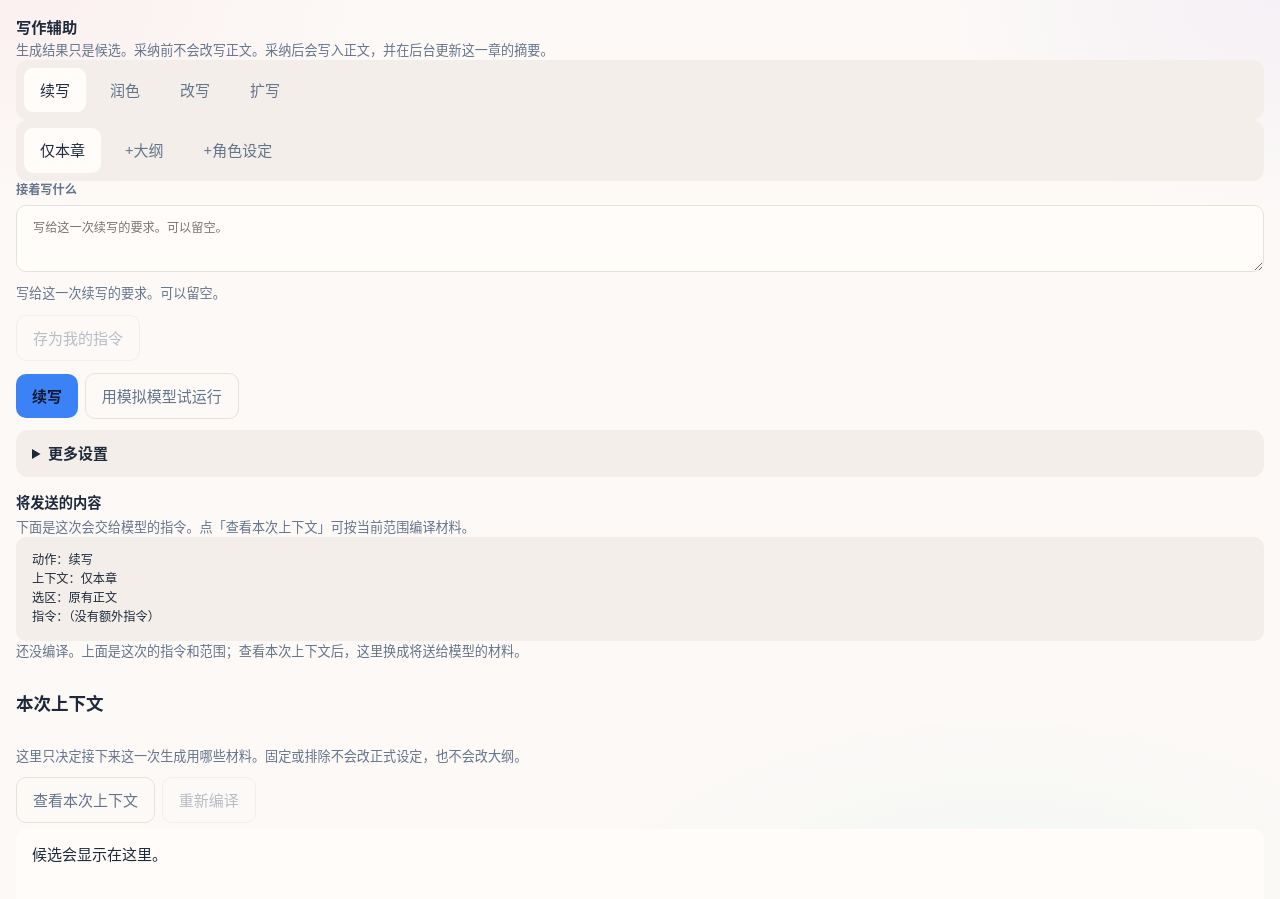
AiPanel › saves an instruction locally and previews the request
In the text box labelled "接着写什么": [640, 238] box x1=16 y1=205 x2=1264 y2=272, type "雨声再近一点"
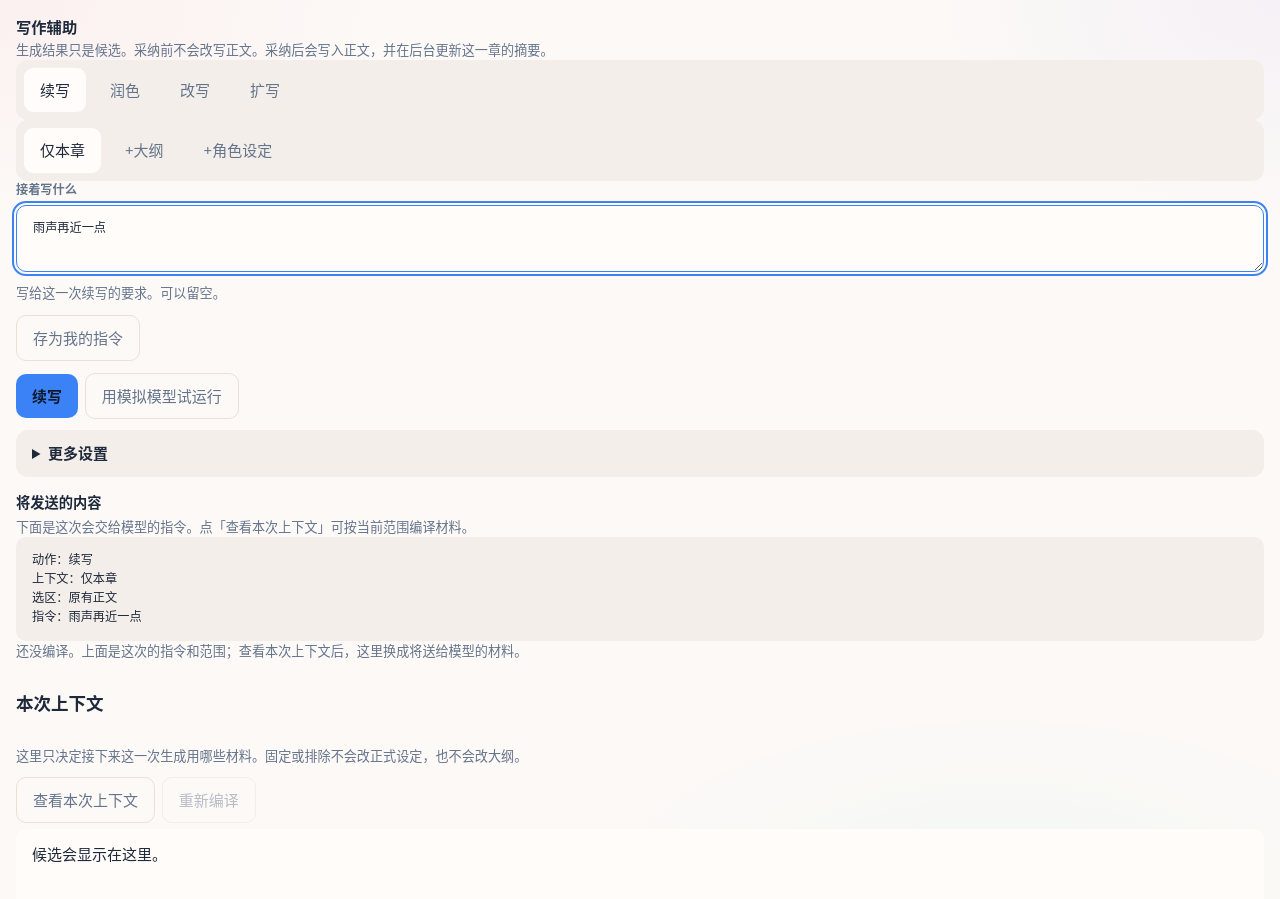
Expected: the element named "Prompt 预览" shows "动作：续写", x1=32 y1=551 x2=142 y2=625
Expected: the element named "Prompt 预览" shows "雨声再近一点", x1=32 y1=551 x2=142 y2=625
Click the button "存为我的指令": [78, 338] box x1=16 y1=315 x2=140 y2=361
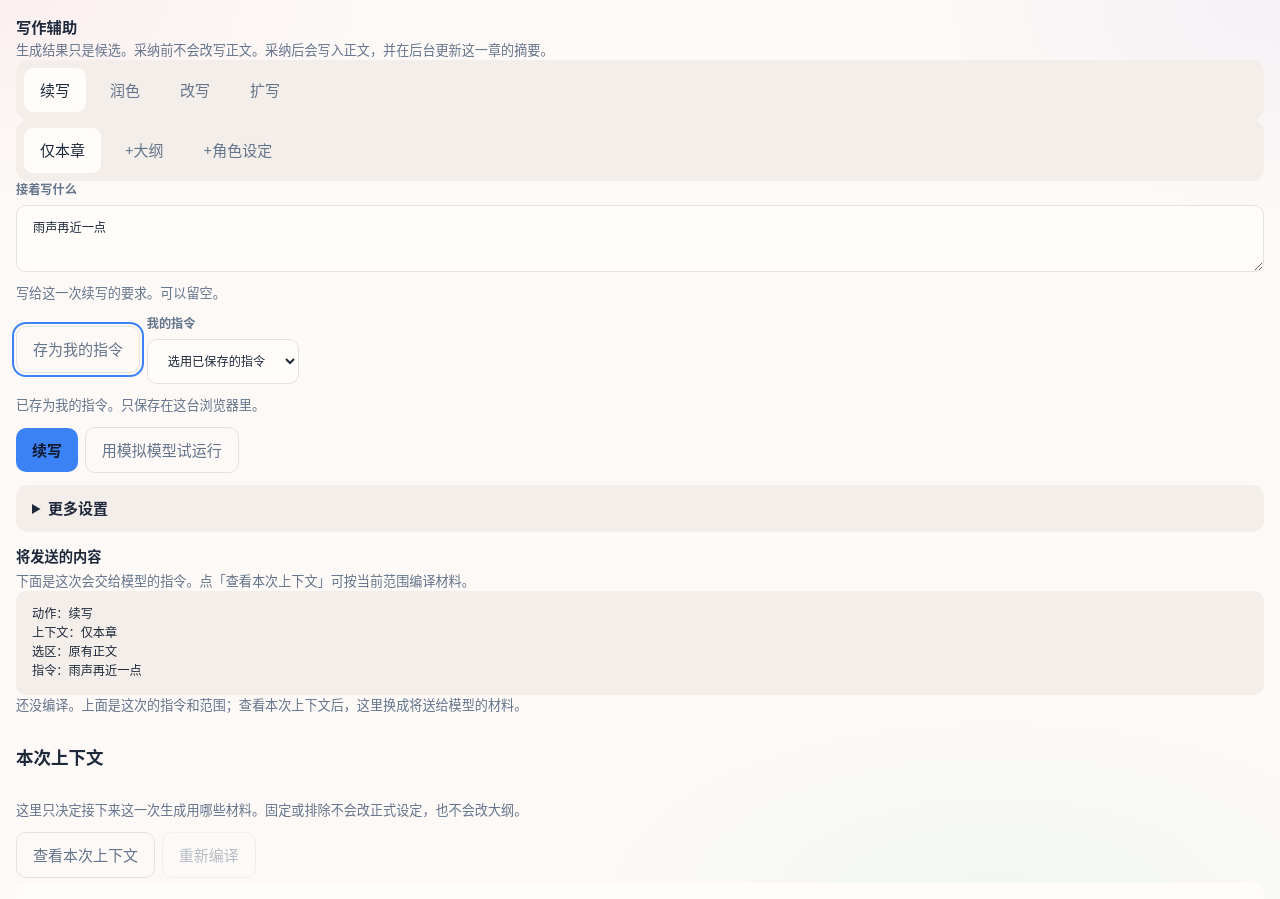
Expected: the text "已存为我的指令。只保存在这台浏览器里。" is shown, x1=16 y1=396 x2=265 y2=414
Click the button "+大纲": [144, 150] box x1=109 y1=128 x2=180 y2=173
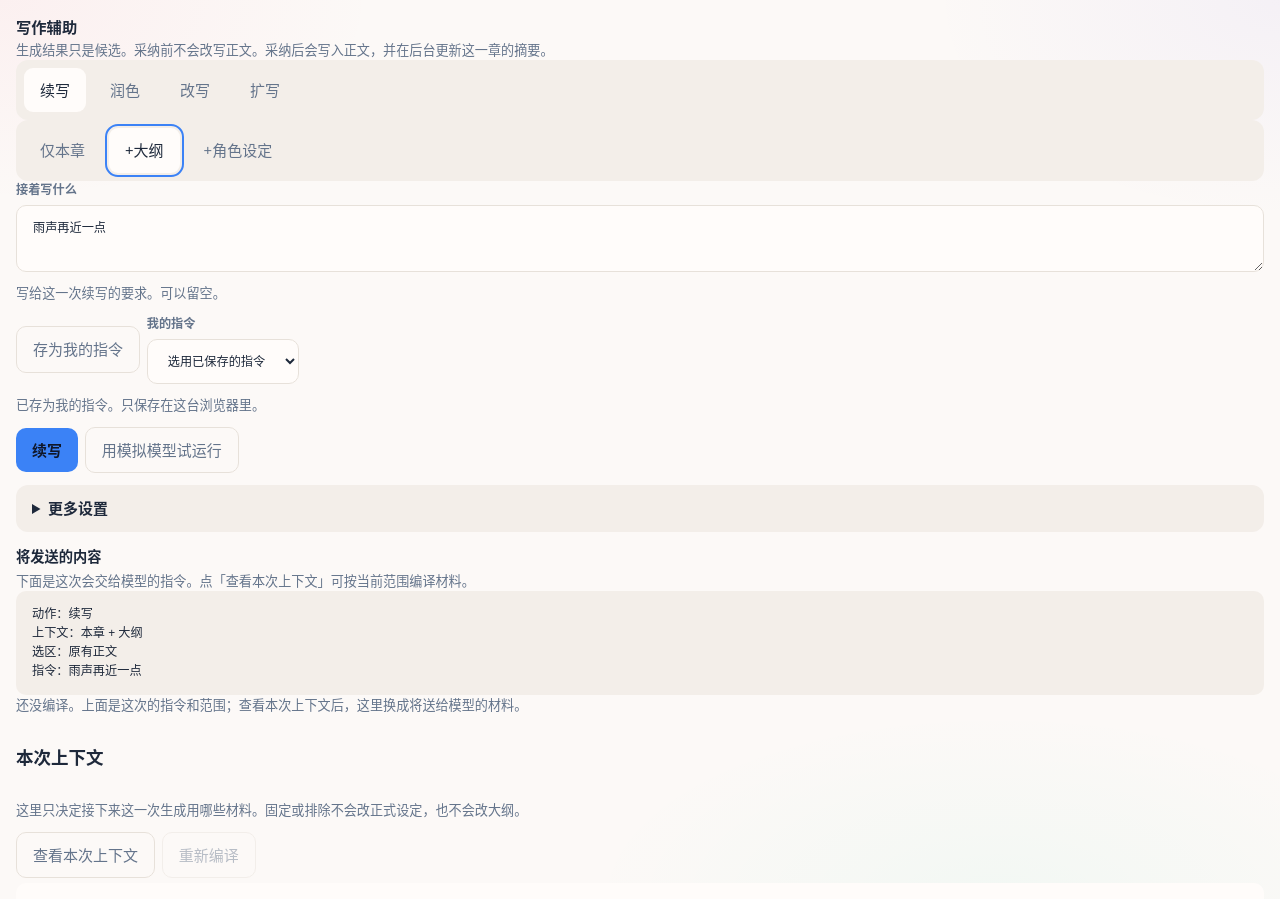
Expected: the element named "Prompt 预览" shows "本章 + 大纲", x1=32 y1=605 x2=143 y2=679
